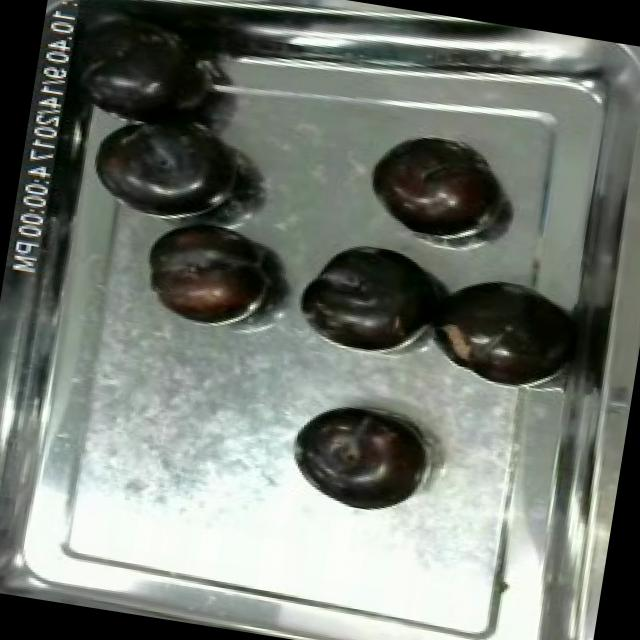Fruit: (80, 98, 250, 232), (284, 396, 438, 522), (132, 212, 282, 336), (358, 128, 506, 250), (288, 232, 436, 354), (432, 272, 576, 396)
